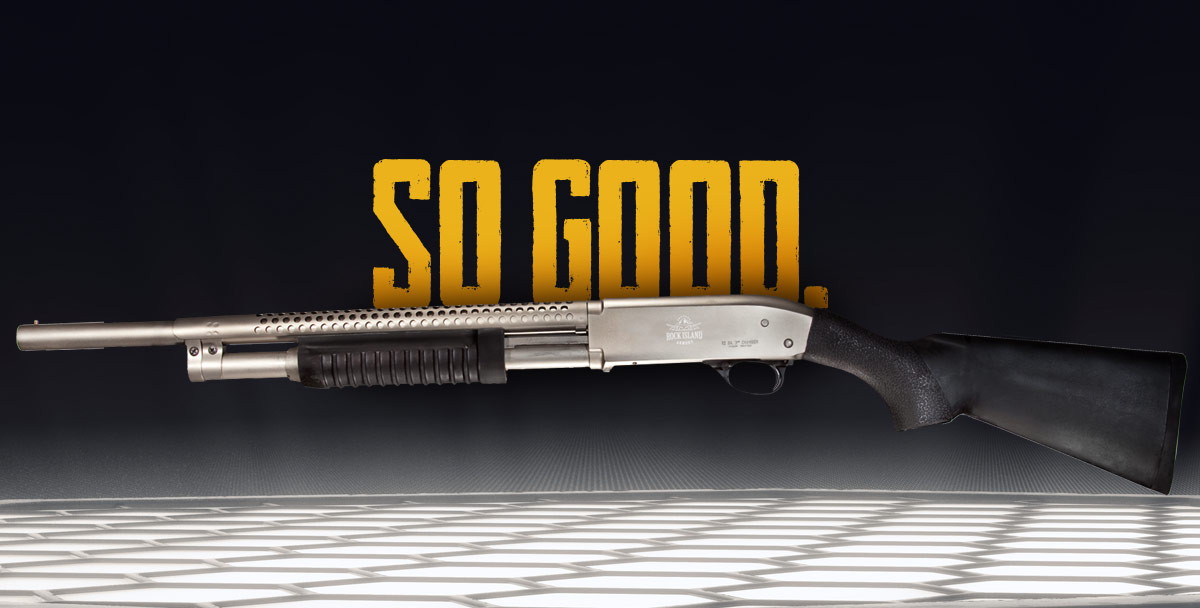Gun: (44, 268, 814, 395)
